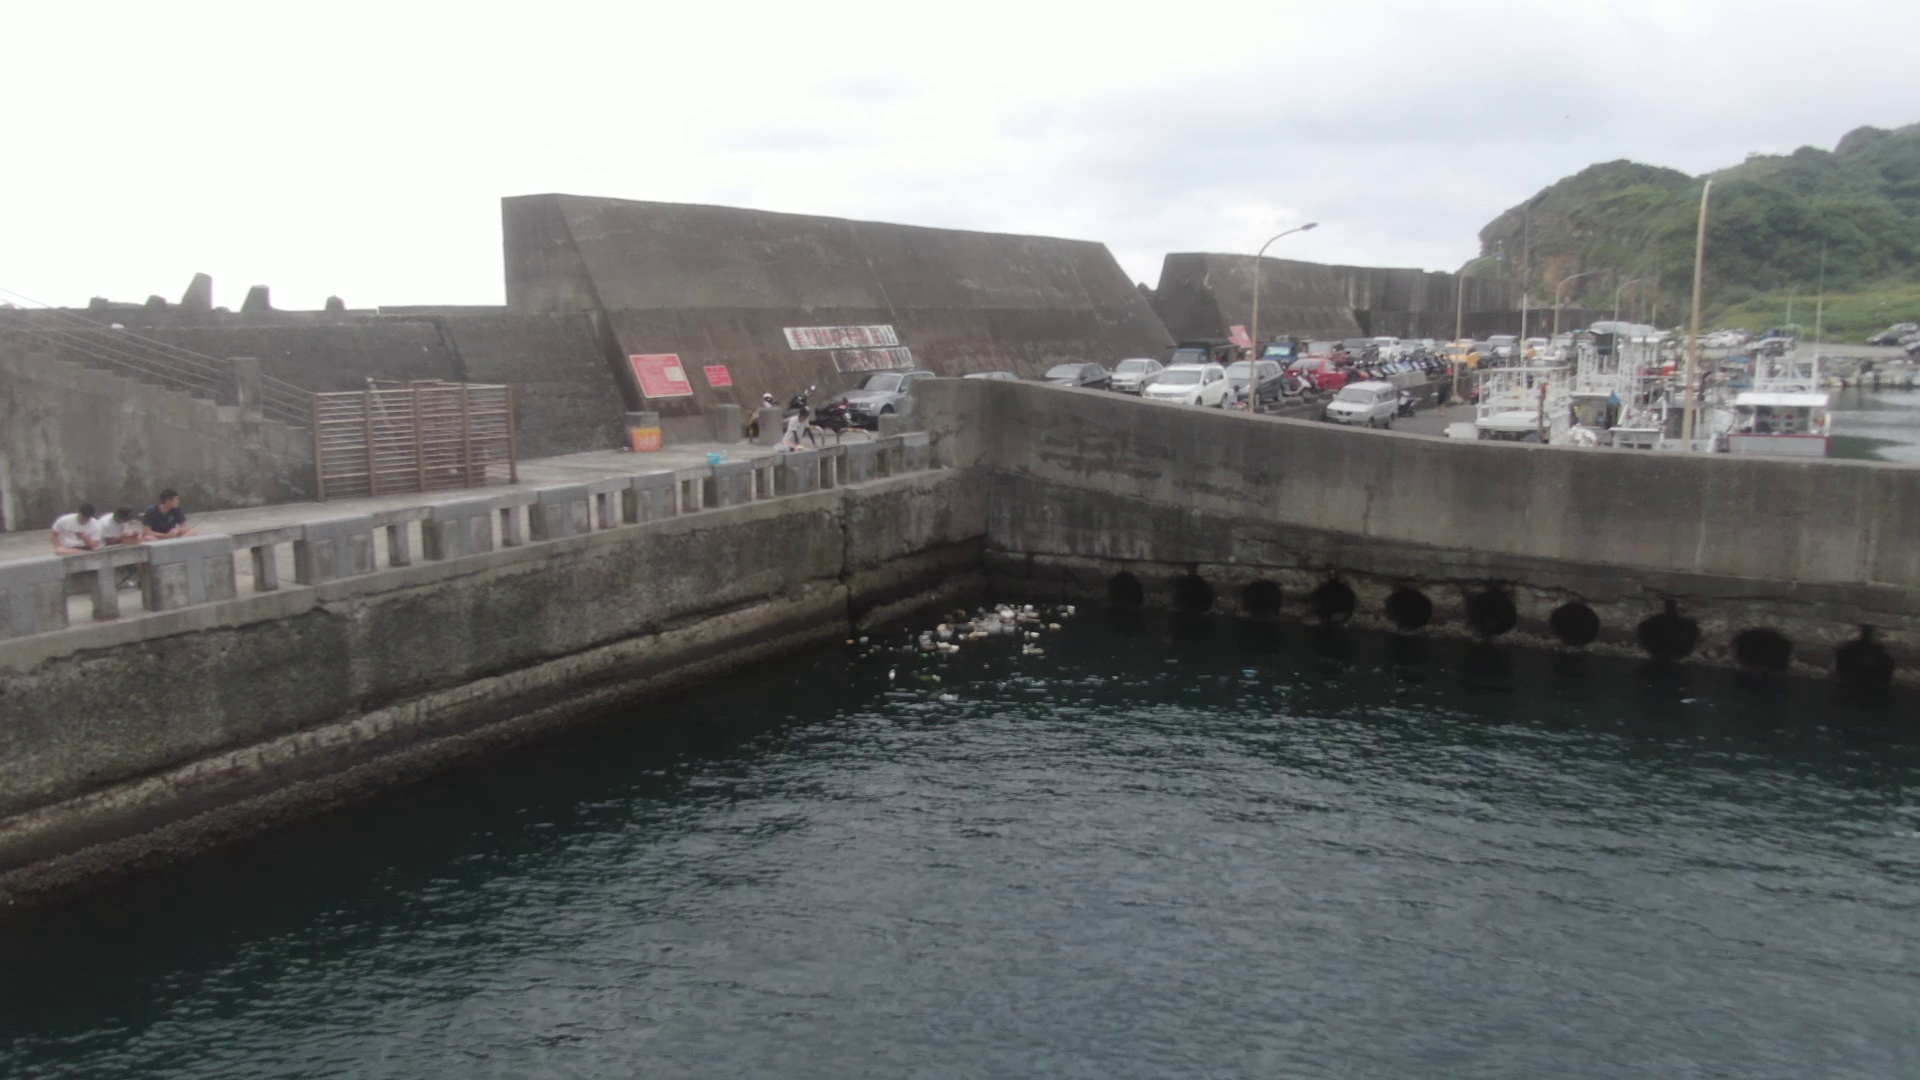garbage: (839, 583, 1096, 698)
